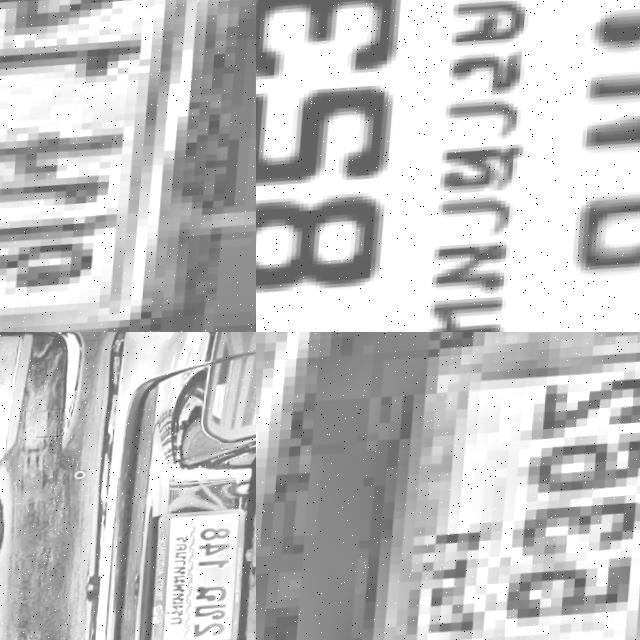license-plate: (256, 0, 640, 332), (256, 332, 640, 640), (0, 0, 246, 332), (145, 510, 254, 640)
